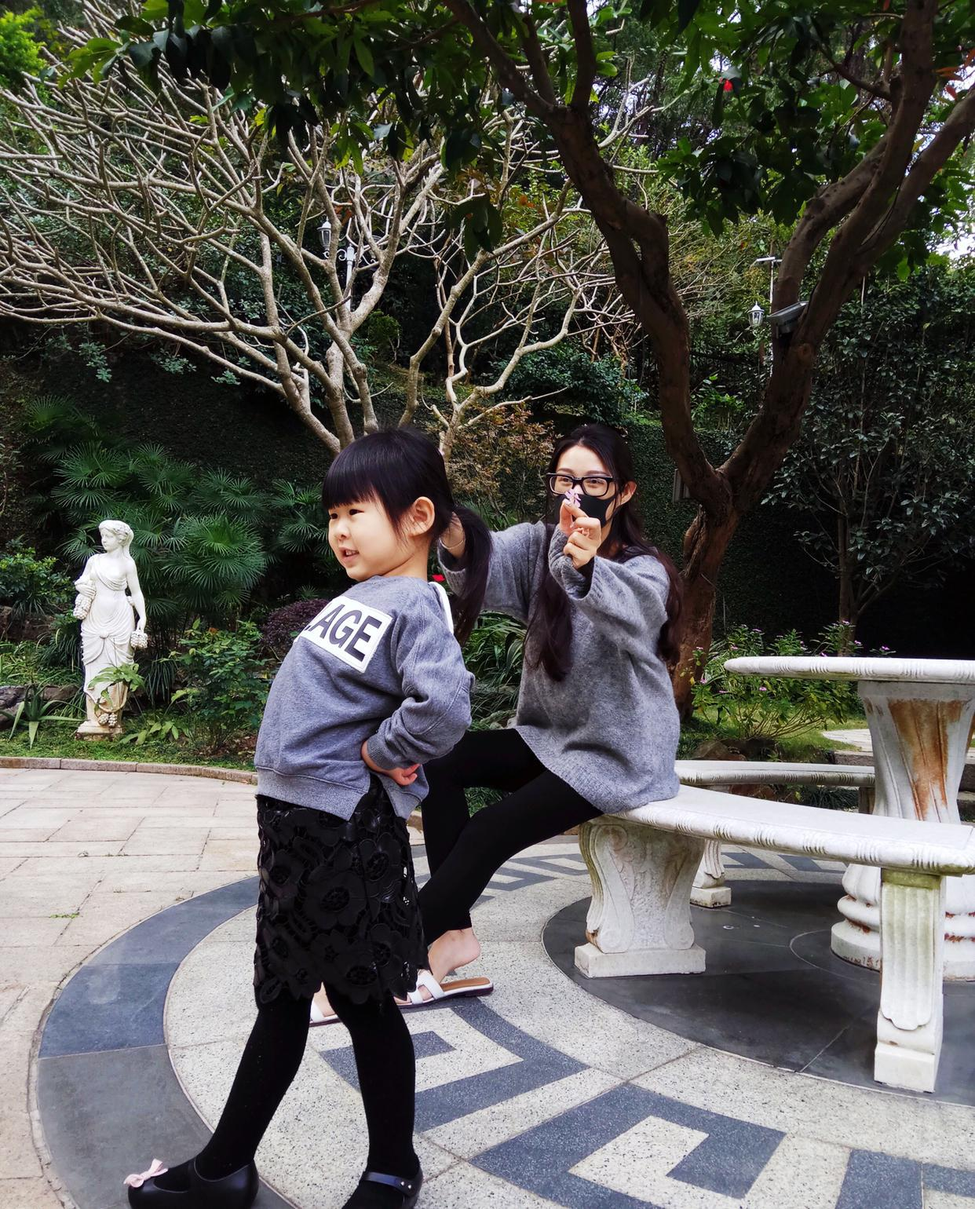NONE: (323, 501, 407, 579)
OK: (553, 461, 626, 535)
